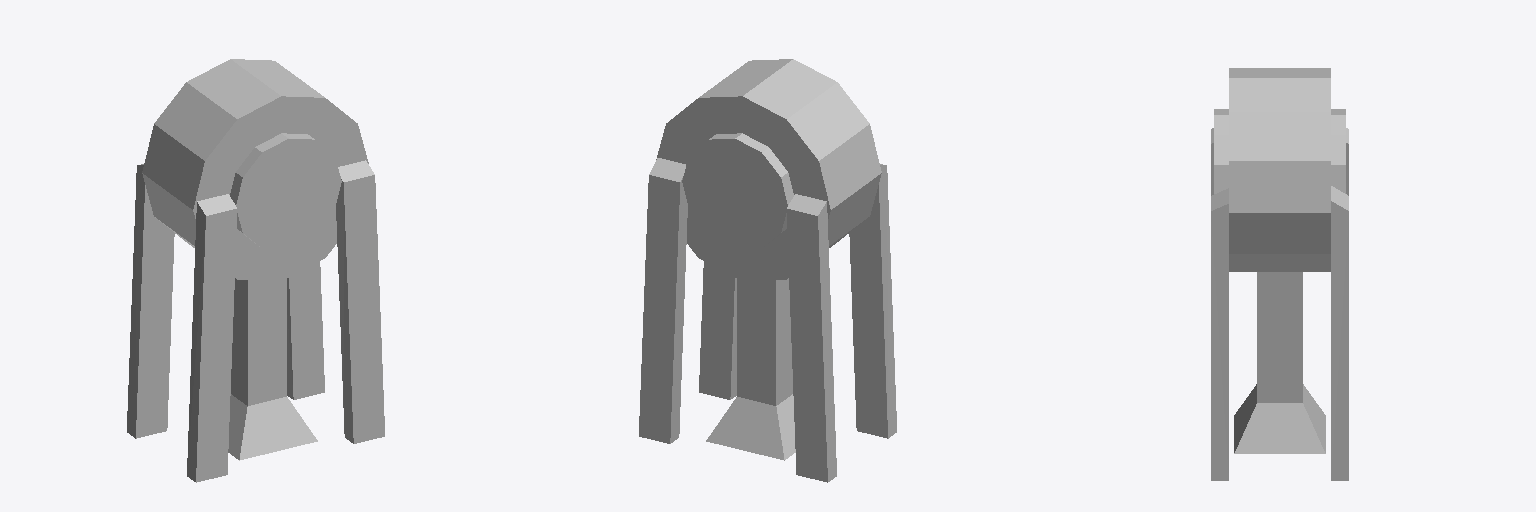
File: selenium_engine_body.obj
3 views of the same model, side by side, from view 1: azimuth 30°, elevation 25°; view 2: azimuth 150°, elevation 25°; view 3: azimuth 270°, elevation 25° (orthographic).
Parts seen in each view (by area): view 1: Cylinder_Cylinder.001; view 2: Cylinder_Cylinder.001; view 3: Cylinder_Cylinder.001.
Boxes of the visible parts, x1=… form: Cylinder_Cylinder.001: x1=127, y1=59, x2=384, y2=482; Cylinder_Cylinder.001: x1=639, y1=59, x2=896, y2=482; Cylinder_Cylinder.001: x1=1211, y1=68, x2=1348, y2=480.
Size of the model in its own units: 0.75 by 1.35 by 0.475.